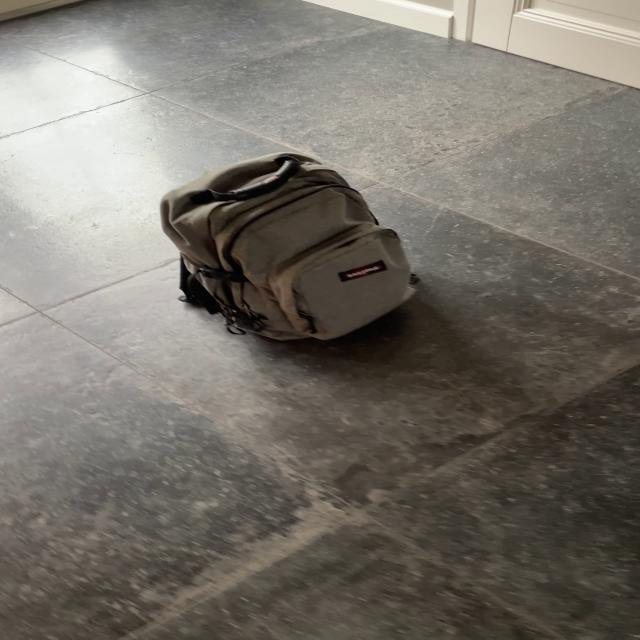backpack: (151, 146, 422, 346)
